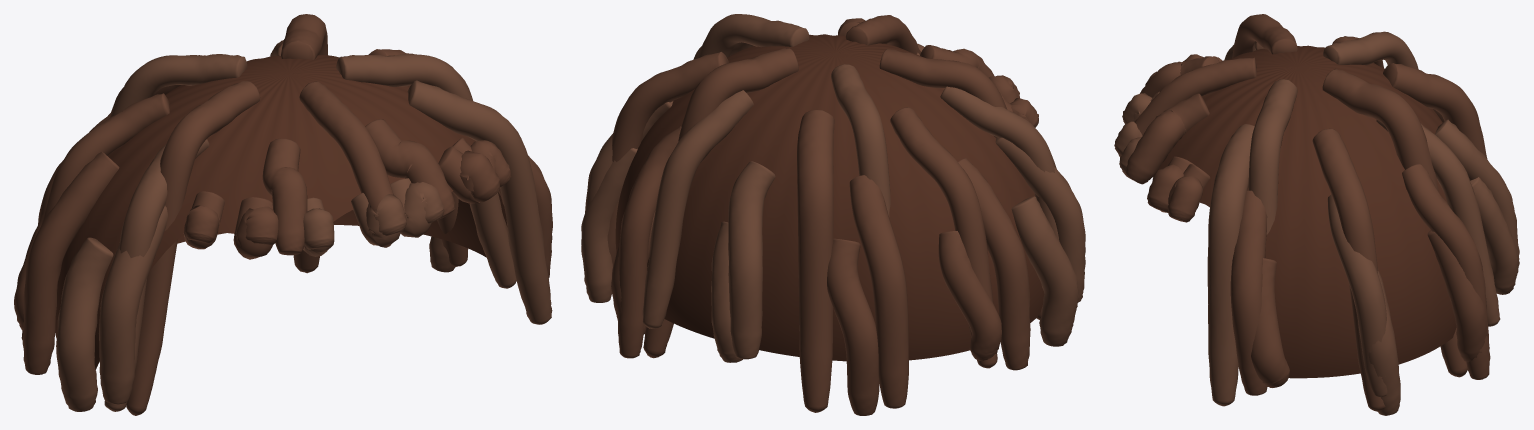
File: Masculine-locs-ears251-hair.glb
3 views of the same model, side by side, from view 1: azimuth 30°, elevation 25°; view 2: azimuth 150°, elevation 25°; view 3: azimuth 270°, elevation 25° (orthographic). The views are drawn at different scales.
Visible parts, largest first — view 1: 226 hair / Hair / loc main251.001, 226 hair / Hair / loc accent251.001, 226 hair / Hair / recessed roots251.001; view 2: 226 hair / Hair / loc main251.001, 226 hair / Hair / recessed roots251.001, 226 hair / Hair / loc accent251.001; view 3: 226 hair / Hair / loc main251.001, 226 hair / Hair / recessed roots251.001, 226 hair / Hair / loc accent251.001.
Part boxes in pixels (left/top/right/bottom): 226 hair / Hair / loc main251.001: left=14, top=14, right=552, bottom=415; 226 hair / Hair / loc accent251.001: left=56, top=40, right=552, bottom=411; 226 hair / Hair / recessed roots251.001: left=55, top=55, right=507, bottom=369; 226 hair / Hair / loc main251.001: left=607, top=15, right=1042, bottom=415; 226 hair / Hair / recessed roots251.001: left=615, top=34, right=1044, bottom=361; 226 hair / Hair / loc accent251.001: left=581, top=14, right=1085, bottom=362; 226 hair / Hair / loc main251.001: left=1125, top=14, right=1490, bottom=411; 226 hair / Hair / recessed roots251.001: left=1157, top=45, right=1456, bottom=378; 226 hair / Hair / loc accent251.001: left=1114, top=31, right=1519, bottom=415.
Bounding box in the file's own units: 1.13 × 0.666 × 0.8975.
